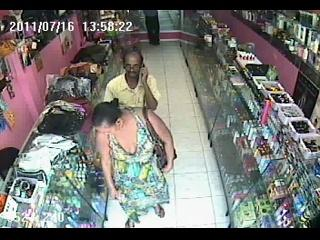Normal: (102, 50, 160, 113), (142, 10, 160, 46)
shoplifting: (91, 100, 178, 225)
